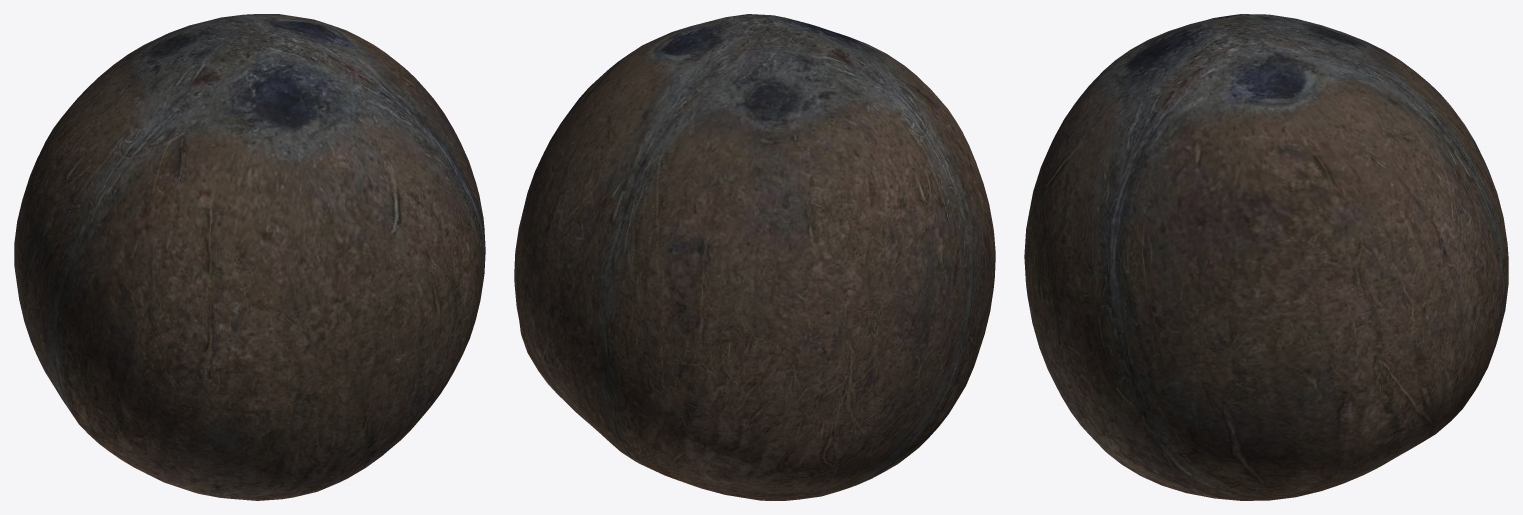
File: coconut.glb
3 views of the same model, side by side, from view 1: azimuth 30°, elevation 25°; view 2: azimuth 150°, elevation 25°; view 3: azimuth 270°, elevation 25° (orthographic). The views are drawn at different scales.
Visible parts, largest first — view 1: coconut; view 2: coconut; view 3: coconut.
Boxes of the visible parts, <box> form: coconut: <box>14,14,485,500</box>; coconut: <box>514,14,995,500</box>; coconut: <box>1024,14,1508,500</box>.
Size of the model in its own units: 0.1668 by 0.1685 by 0.1654.
1 material, 1 textured.
